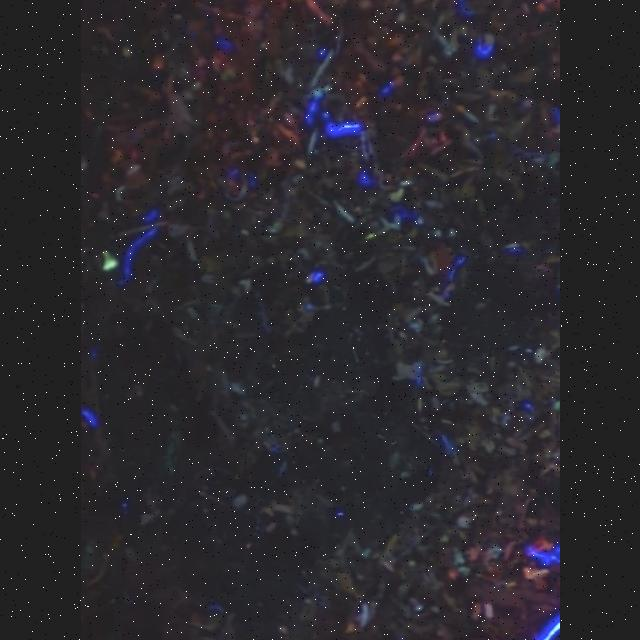microbeads: (100, 250, 118, 272)
